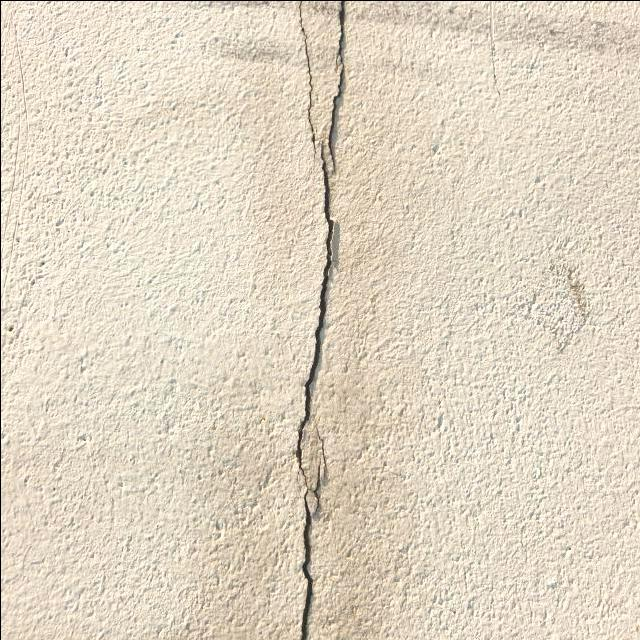SurfaceCrack: (253, 0, 390, 639)
